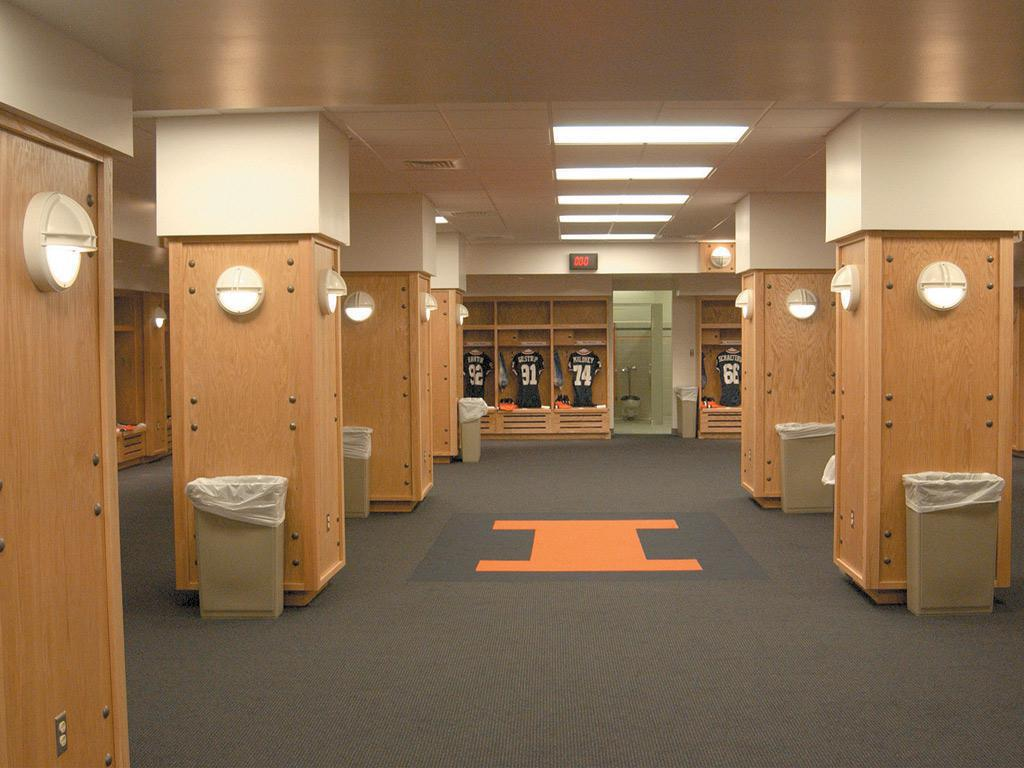Bote de Basura: (900, 475, 1002, 620), (191, 472, 290, 619), (779, 417, 837, 511), (349, 427, 375, 522), (458, 399, 486, 463)
